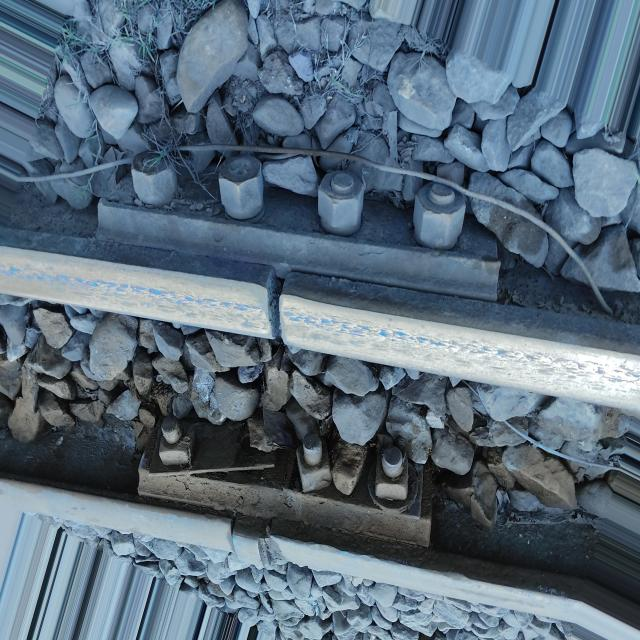crack: (244, 261, 313, 357)
